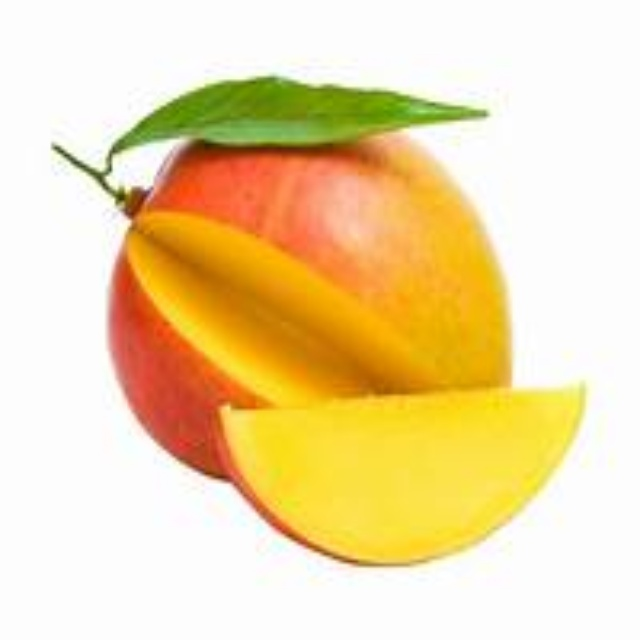mango: (51, 77, 518, 486), (213, 384, 584, 572)
